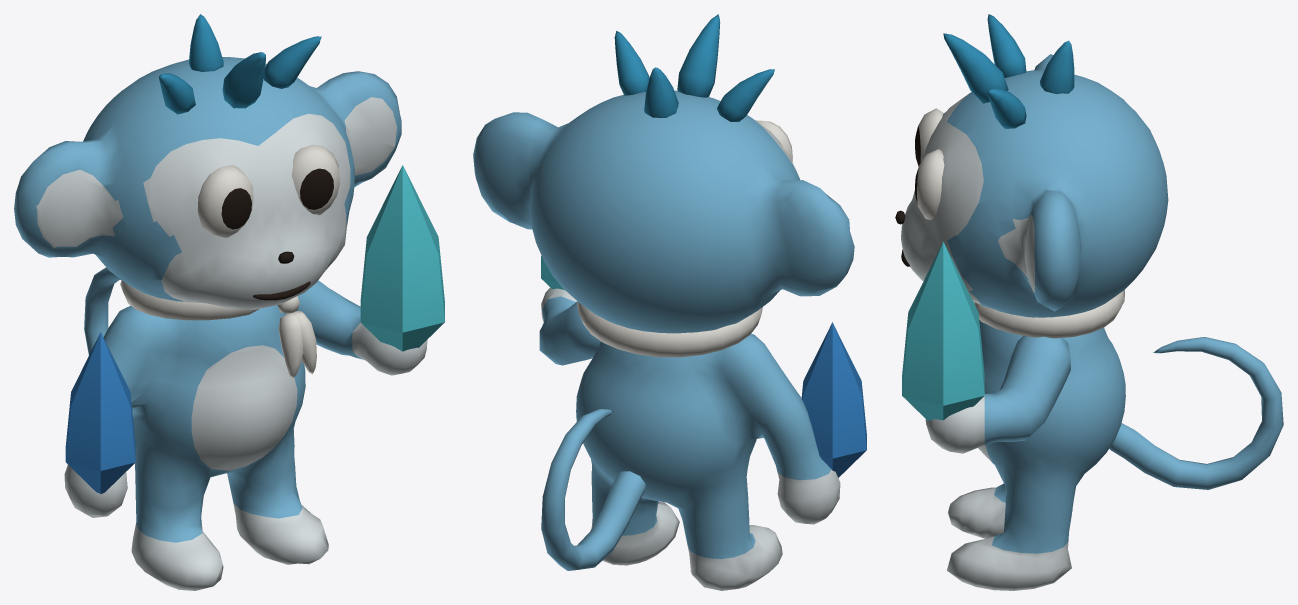
3 views of the same model, side by side, from view 1: azimuth 30°, elevation 25°; view 2: azimuth 150°, elevation 25°; view 3: azimuth 270°, elevation 25° (orthographic). The views are drawn at different scales.
Parts seen in each view (by area): view 1: gelo_2_cabeca, gelo_0_corpo, gelo_3_braco, gelo_1_cauda; view 2: gelo_2_cabeca, gelo_0_corpo, gelo_1_cauda, gelo_3_braco; view 3: gelo_2_cabeca, gelo_0_corpo, gelo_3_braco, gelo_1_cauda.
Boxes of the visible parts, x1,y1,x2,y2 form: gelo_2_cabeca: (14,14,401,309); gelo_0_corpo: (64,280,328,590); gelo_3_braco: (285,165,444,375); gelo_1_cauda: (84,267,121,354); gelo_2_cabeca: (473,14,854,333); gelo_0_corpo: (576,301,866,590); gelo_1_cauda: (541,409,645,570); gelo_3_braco: (539,256,600,365); gelo_2_cabeca: (895,14,1168,317); gelo_0_corpo: (947,290,1125,590); gelo_3_braco: (902,242,1070,453); gelo_1_cauda: (1109,337,1283,489).
Size of the model in its own units: 0.7918 by 1.06 by 0.7076.
